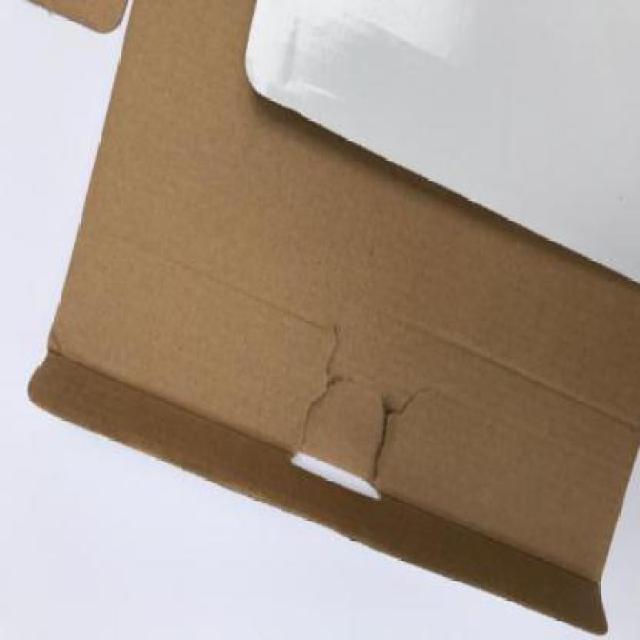CARDBOARD: (26, 1, 639, 638)
